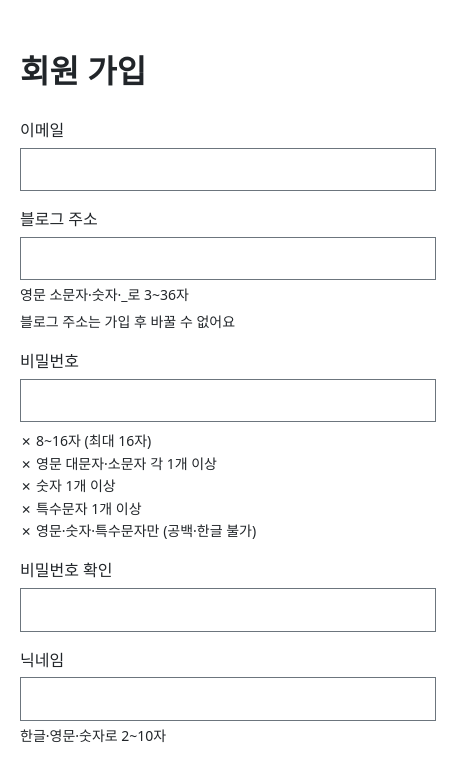
Test: SignupPage › 필수 동의를 하지 않으면 보내지 않고 안내한다
In the field labelled "이메일": (228, 170) [20,148,436,191], type "kim@naver.com"
(page scrolled)
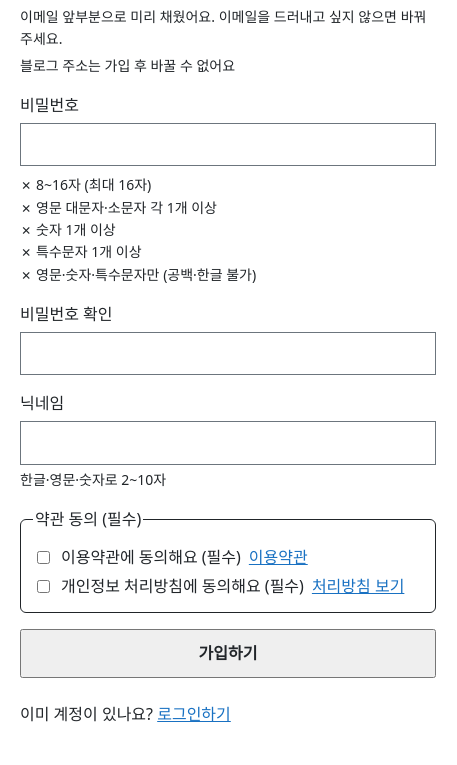
Click the button "가입하기": (228, 654) [20,629,436,678]
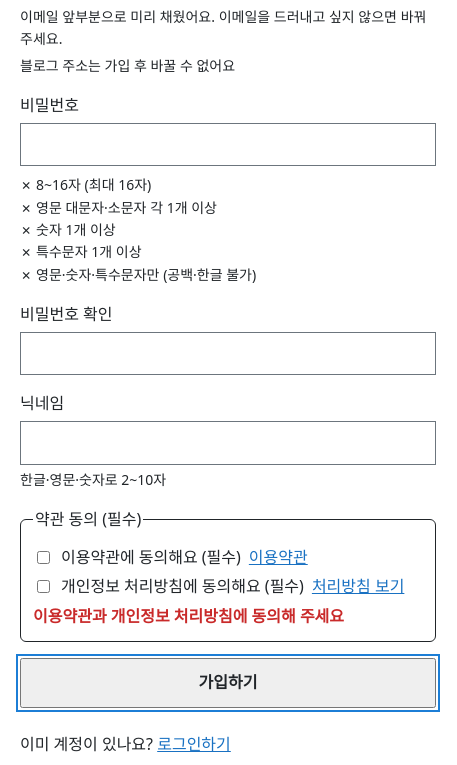
Check: the text "이용약관과 개인정보 처리방침에 동의해 주세요" is shown, box [33,605,344,627]
